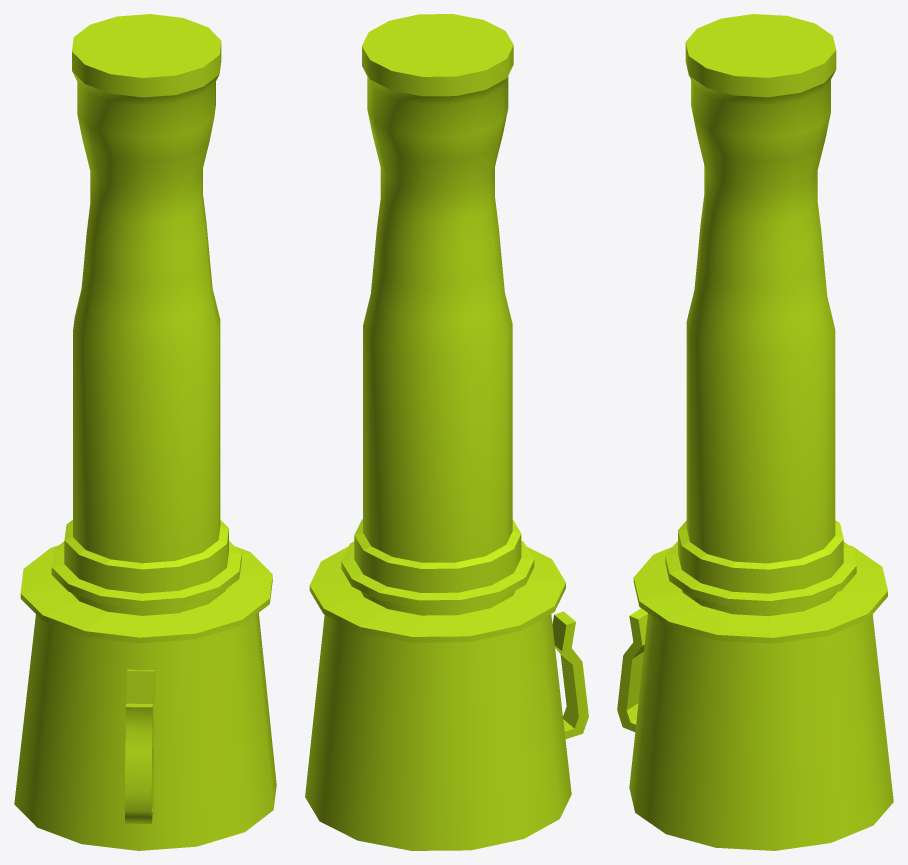
File: Granaat centimeters.FBX
The picture shows the model from 3 angles, left to right: view 1: azimuth 30°, elevation 25°; view 2: azimuth 150°, elevation 25°; view 3: azimuth 270°, elevation 25°; orthographic projection.
Parts seen in each view (by area): view 1: Cylinder001; view 2: Cylinder001; view 3: Cylinder001.
Part boxes in pixels (x1=…): Cylinder001: x1=14, y1=14, x2=276, y2=850; Cylinder001: x1=305, y1=14, x2=588, y2=850; Cylinder001: x1=617, y1=14, x2=893, y2=850.
Bounding box in the file's own units: 8.64 × 26.93 × 9.01.
